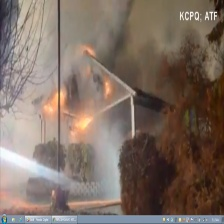fire: (42, 86, 101, 142)
smoke: (7, 1, 217, 74)
